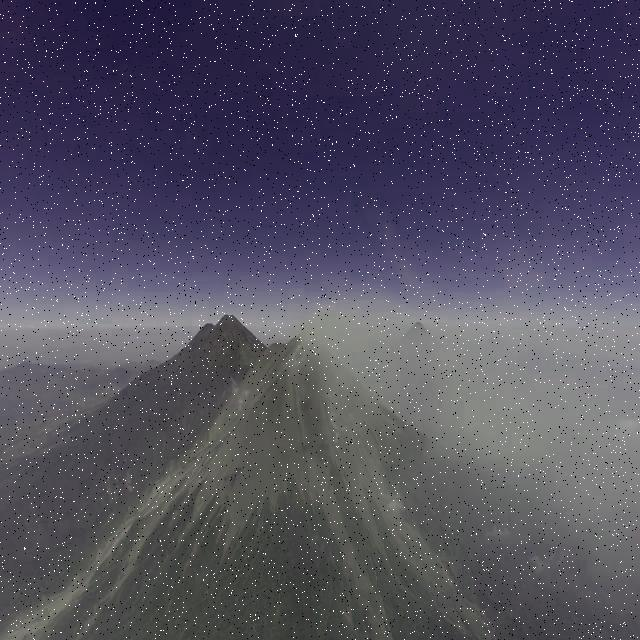Plume: (306, 267, 428, 431)
Summit: (286, 330, 326, 357)
